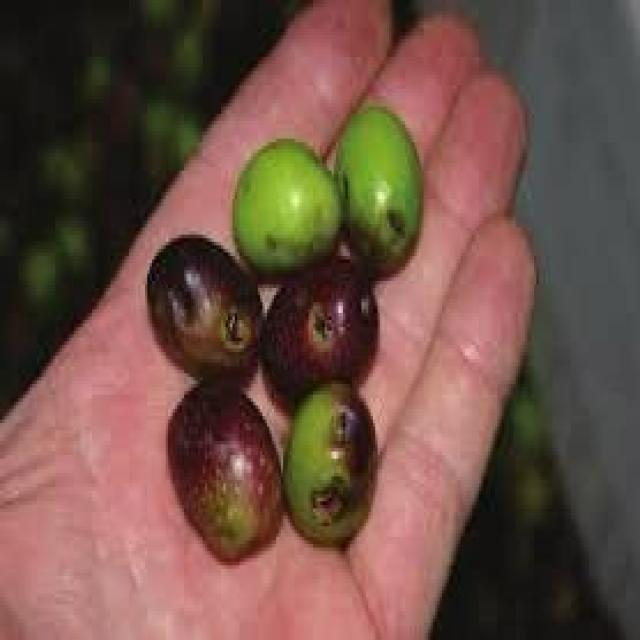Olive Fruit Fly: (167, 384, 276, 564), (260, 260, 375, 402), (150, 235, 258, 386), (334, 103, 421, 274), (283, 384, 374, 546), (233, 142, 336, 281)
